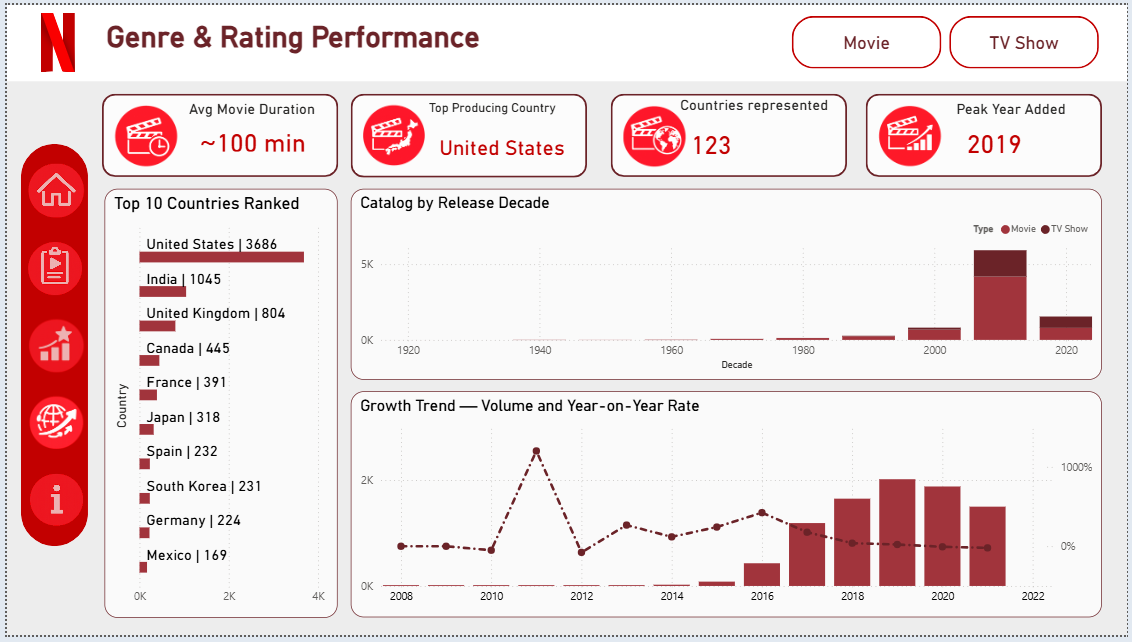

The page's visual inventory and layout, read from the dashboard file:
{"tool":"powerbi","page":{"name":"Global Distribution & Growth","canvas":[1280,720],"ordinal":3},"visuals":[{"type":"shape","box":[0,0,1280,720],"z":0},{"type":"shape","box":[0,86.7,1280,633.3],"z":1000},{"type":"actionButton","box":[23.3,8.3,70,68.3],"z":2000},{"type":"clusteredBarChart","title":"Top 10 Countries Ranked","fields":{"Y":["Dashboard 2 measures.Label placeholder","Measures (2).Titles by Country"],"Category":["country_table.Country"]},"box":[111.7,210,266.7,490],"z":3000},{"type":"lineClusteredColumnComboChart","title":"Growth Trend — Volume and Year-on-Year Rate","fields":{"Category":["Date_Table.Year"],"Y":["Measures (2).Titles Per Year"],"Y2":["Measures (2).YoY Growth %"]},"box":[393.3,441.7,858.3,258.3],"z":4000},{"type":"columnChart","title":"Catalog by Release Decade","fields":{"Category":["netflix_titles.Decade"],"Y":["Measures (2).Total Titles"],"Series":["netflix_titles.type"]},"box":[393.3,210,858.3,218.3],"z":5000},{"type":"shape","box":[108.3,101.7,270,95],"z":6000},{"type":"shape","box":[392.9,101.4,270,95.7],"z":7000},{"type":"shape","box":[690.6,101.7,270,95],"z":8000},{"type":"shape","box":[981.7,101.7,270,95],"z":9000},{"type":"textbox","box":[108.3,11.7,466.7,51.7],"z":10000},{"type":"image","box":[121.4,114.3,75.7,71.4],"z":11000},{"type":"image","box":[702.9,114.3,75.7,71.4],"z":12000},{"type":"image","box":[404.3,112.9,75.7,71.4],"z":13000},{"type":"image","box":[994.3,114.3,75.7,71.4],"z":14000},{"type":"cardVisual","title":"Avg Movie Duration","fields":{"Data":["Measures (2).Avg Movie Duration"]},"box":[202.9,108.6,165.7,77.1],"z":15000},{"type":"cardVisual","title":"Top Producing Country","fields":{"Data":["Dashboard 3 Measures.top producting country"]},"box":[477.1,108.6,185.7,88.6],"z":16000},{"type":"cardVisual","title":"Countries represented","fields":{"Data":["Measures (2).Countries Represented"]},"box":[764.3,104.3,181.4,90],"z":17000},{"type":"cardVisual","title":"Peak Year Added","fields":{"Data":["Dashboard 3 Measures.Peak Year"]},"box":[1080,108.6,152.9,80],"z":18000},{"type":"shape","box":[15.7,158.6,77.1,460],"z":19000},{"type":"actionButton","box":[24.3,181.4,64.3,61.4],"z":20000},{"type":"actionButton","box":[22.9,269.6,64.3,61.4],"z":21000},{"type":"actionButton","box":[24.3,357.9,64.3,61.4],"z":22000},{"type":"actionButton","box":[24.3,446.1,64.3,61.4],"z":23000},{"type":"actionButton","box":[24.3,534.3,64.3,61.4],"z":24000},{"type":"advancedSlicerVisual","fields":{"Values":["netflix_titles.type"]},"box":[893.3,8.3,360,68.3],"z":25000}]}

Visuals, with their boxes in screenshot pixels (x1, y1, x2, y2), scaled from the page's 1280x720 canvas onto the 1132x642 screenshot:
shape: (0,0,1131,641)
shape: (0,77,1131,641)
actionButton: (21,7,83,68)
"Top 10 Countries Ranked" clusteredBarChart: (99,187,335,624)
"Growth Trend — Volume and Year-on-Year Rate" lineClusteredColumnComboChart: (348,394,1107,624)
"Catalog by Release Decade" columnChart: (348,187,1107,382)
shape: (96,91,335,175)
shape: (347,90,586,176)
shape: (611,91,850,175)
shape: (868,91,1107,175)
textbox: (96,10,509,57)
image: (107,102,174,166)
image: (622,102,689,166)
image: (358,101,424,164)
image: (879,102,946,166)
"Avg Movie Duration" cardVisual: (179,97,326,166)
"Top Producing Country" cardVisual: (422,97,586,176)
"Countries represented" cardVisual: (676,93,836,173)
"Peak Year Added" cardVisual: (955,97,1090,168)
shape: (14,141,82,552)
actionButton: (21,162,78,216)
actionButton: (20,240,77,295)
actionButton: (21,319,78,374)
actionButton: (21,398,78,453)
actionButton: (21,476,78,531)
advancedSlicerVisual - netflix_titles.type: (790,7,1108,68)
